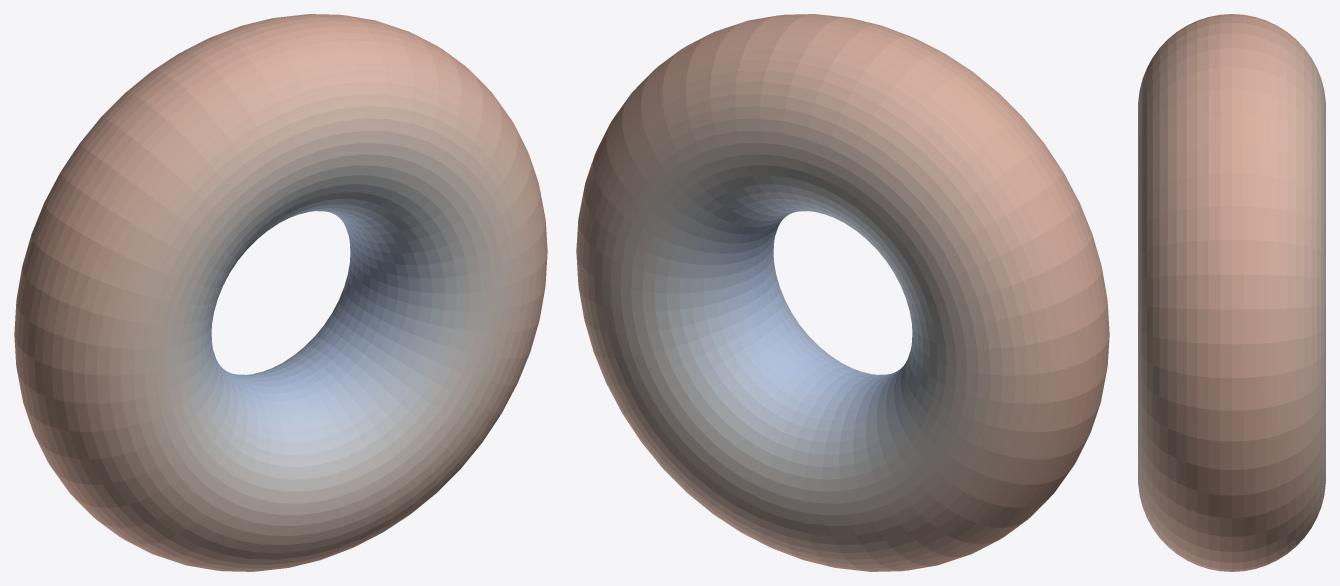
3 views of the same model, side by side, from view 1: azimuth 30°, elevation 25°; view 2: azimuth 150°, elevation 25°; view 3: azimuth 270°, elevation 25° (orthographic). The views are drawn at different scales.
Visible parts, largest first — view 1: world; view 2: world; view 3: world.
Boxes of the visible parts, <box> form: world: <box>14,14,547,571</box>; world: <box>576,14,1109,571</box>; world: <box>1138,14,1325,571</box>.
Bounding box in the file's own units: 24.13 × 24.09 × 8.12.
